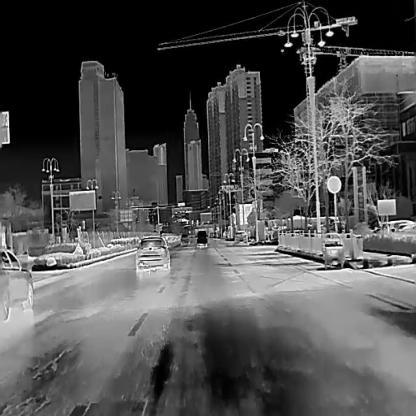car: (0, 248, 32, 319), (135, 235, 170, 271), (195, 230, 208, 247), (233, 230, 248, 243), (180, 232, 190, 244)
